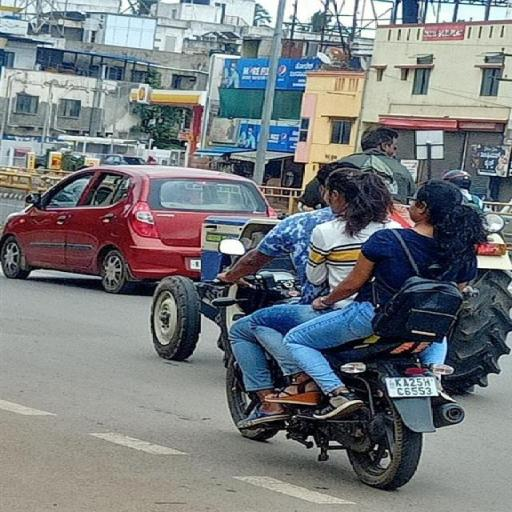tripple riding: (263, 154, 495, 310)
